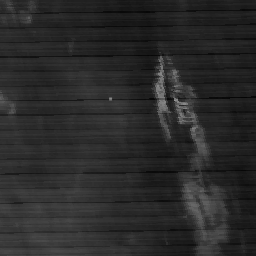Target: (106, 96, 113, 102)
